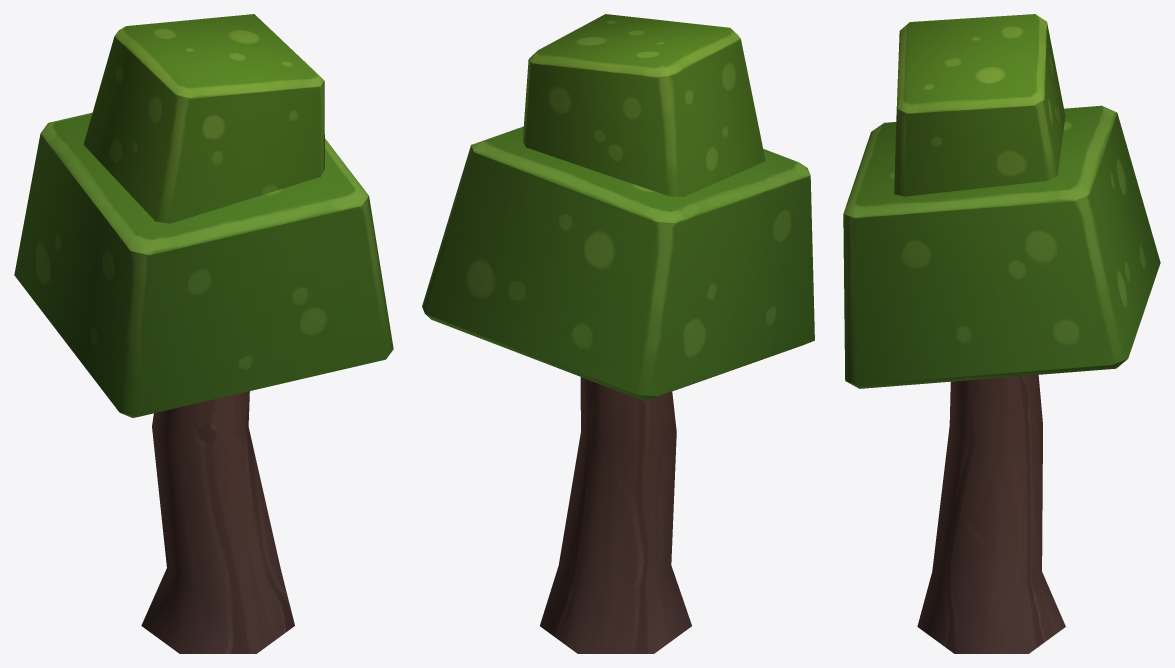
The model's file is forest_tree_02.fbx.
The picture shows the model from 3 angles, left to right: view 1: azimuth 30°, elevation 25°; view 2: azimuth 150°, elevation 25°; view 3: azimuth 270°, elevation 25°; orthographic projection. The views are drawn at different scales.
Visible parts, largest first — view 1: forest_tree_02; view 2: forest_tree_02; view 3: forest_tree_02.
Part boxes in pixels (x1=…): forest_tree_02: x1=14, y1=14, x2=393, y2=653; forest_tree_02: x1=422, y1=14, x2=814, y2=653; forest_tree_02: x1=843, y1=14, x2=1160, y2=653.
Bounding box in the file's own units: 2.35 × 4.78 × 2.37.
